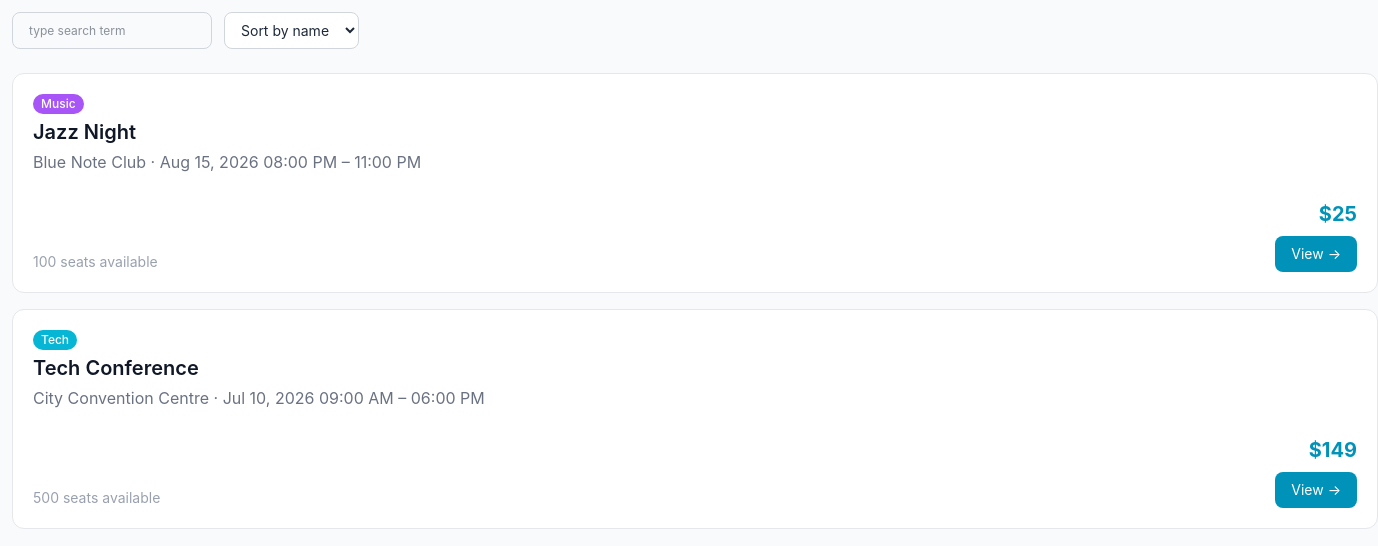
Scenario: search filtering is case-insensitive
This screenshot has width=1378, height=546.
Check: the link "Jazz Night" is shown, box [33,120,136,144]
Type "TECH" into the field with placeholder "type search term" at x=112, y=30, box [12,12,212,49]
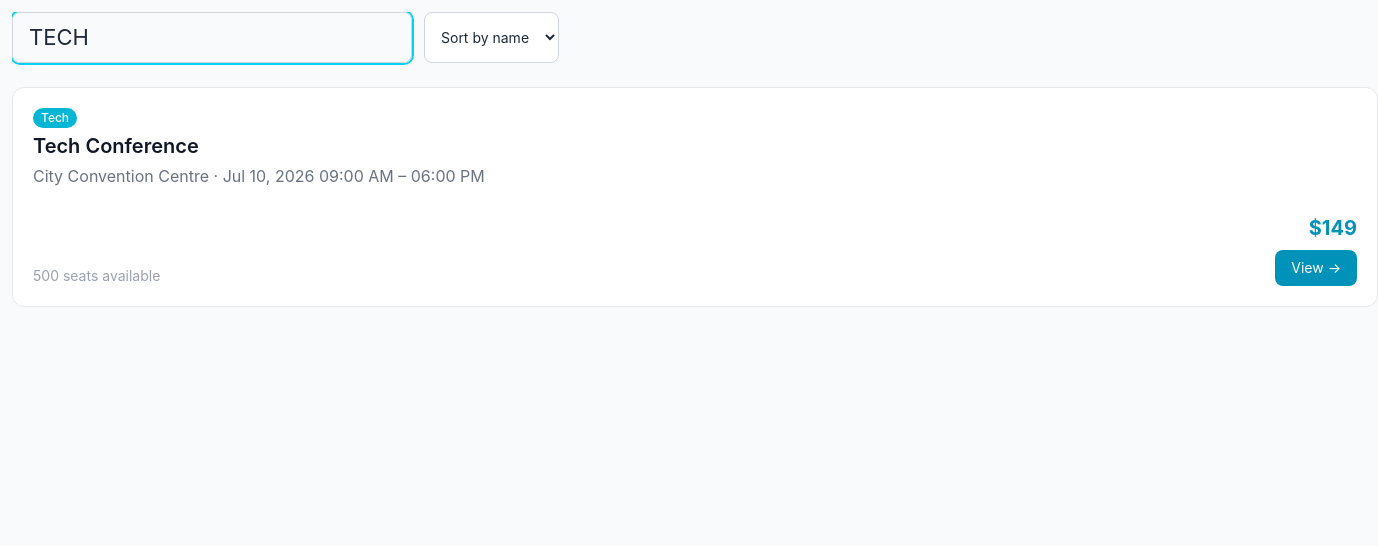
Check: the link "Tech Conference" is shown, box [33,134,199,158]
Check: the link "Jazz Night" is gone
